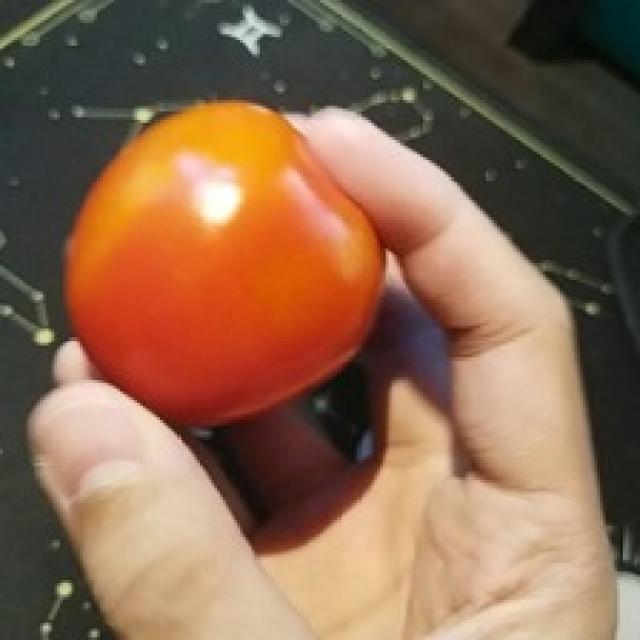tomato: (63, 103, 386, 429)
